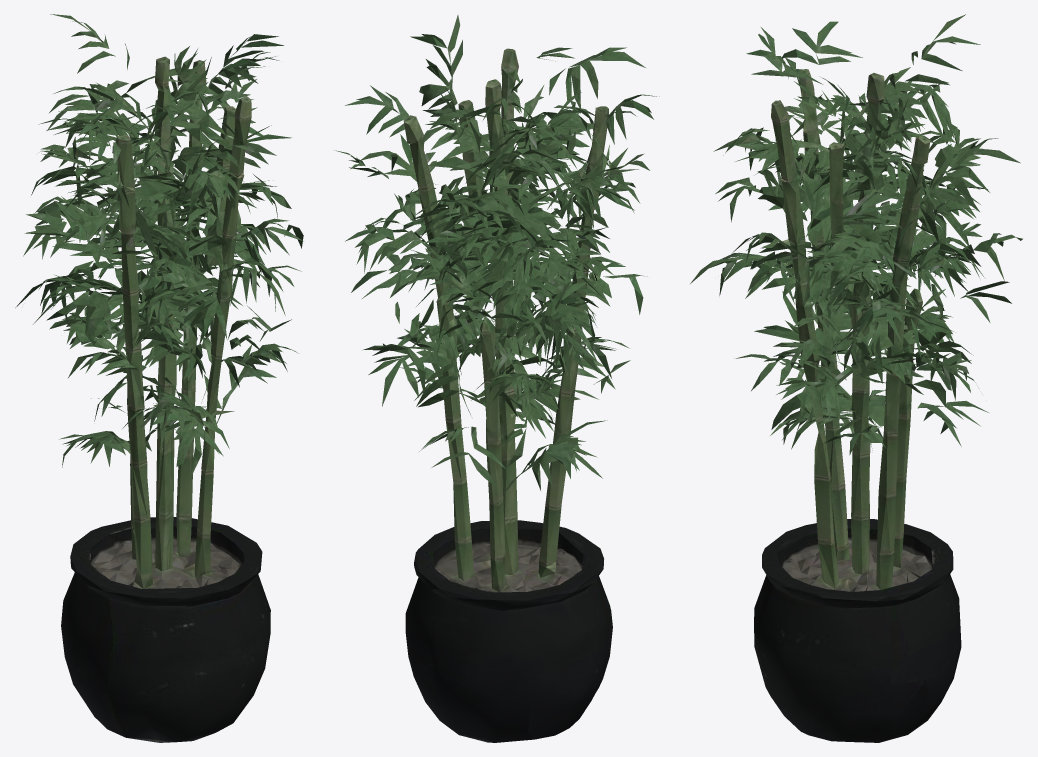
File: milked-bamboo.glb
3 renders of one model, left to right at view 1: azimuth 30°, elevation 25°; view 2: azimuth 150°, elevation 25°; view 3: azimuth 270°, elevation 25°, orthographic.
Visible parts, largest first — view 1: output_unwrapped; view 2: output_unwrapped; view 3: output_unwrapped.
Boxes of the visible parts, x1,y1,x2,y2 form: output_unwrapped: (15, 14, 303, 742); output_unwrapped: (335, 15, 659, 742); output_unwrapped: (690, 14, 1022, 742).
Bounding box in the file's own units: 0.8023 × 1.9 × 0.8496.
Materials: 1 (1 with a texture image).
